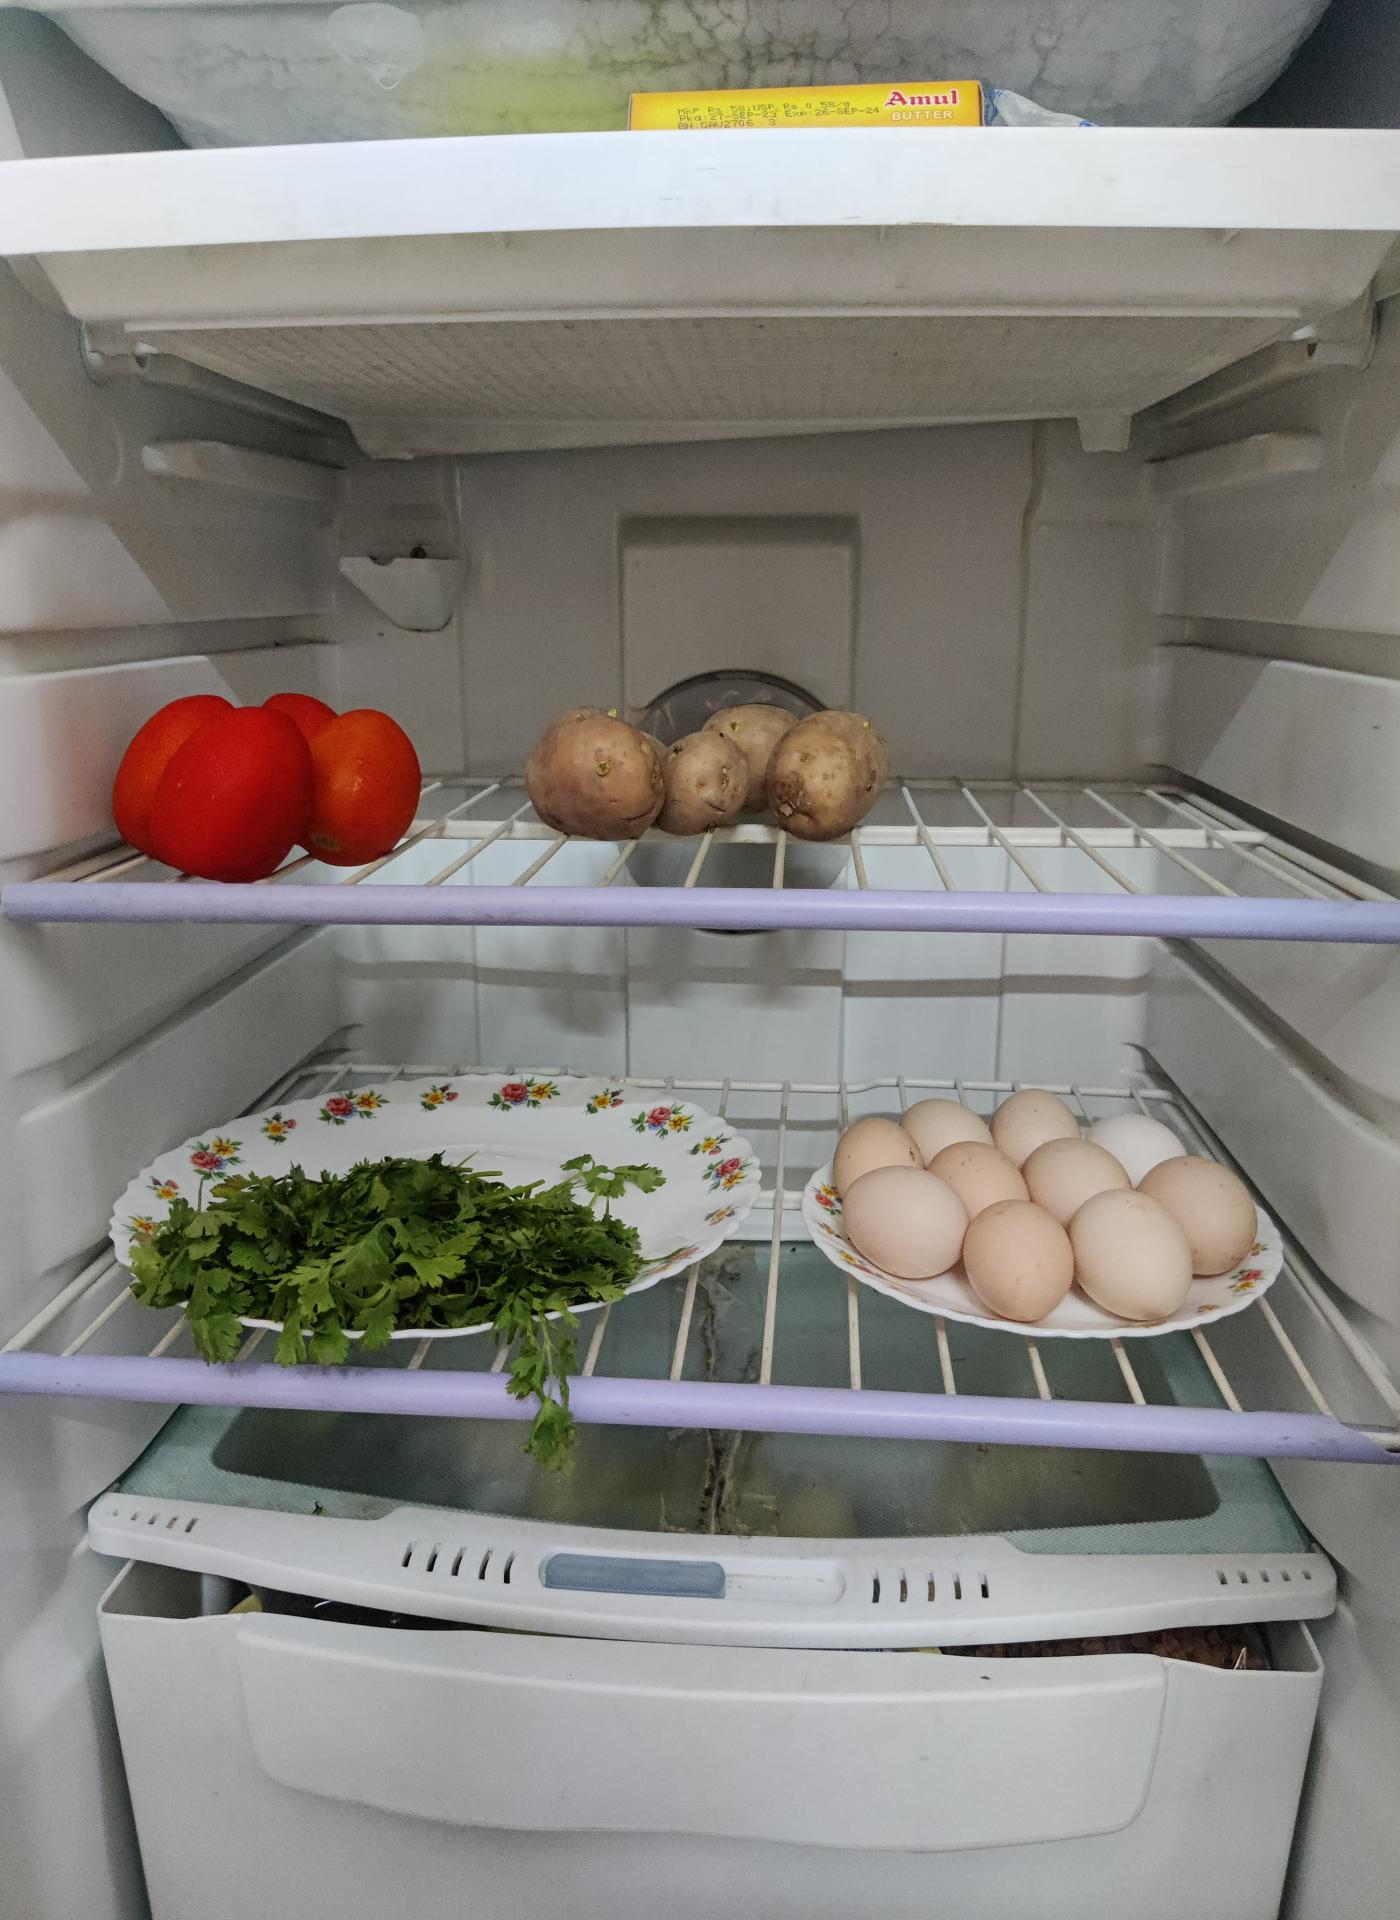coriander: (124, 1158, 646, 1365)
egg: (810, 1097, 1260, 1330)
potato: (526, 708, 890, 845)
tomato: (118, 684, 429, 872)
